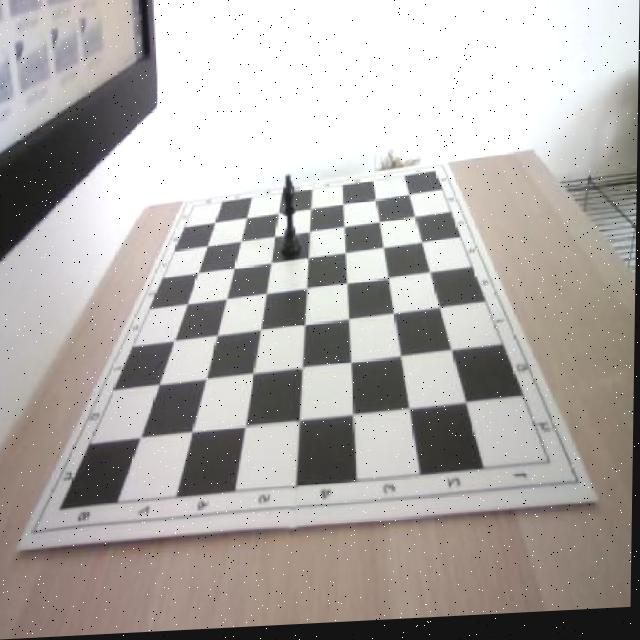bishop: (280, 175, 304, 262)
